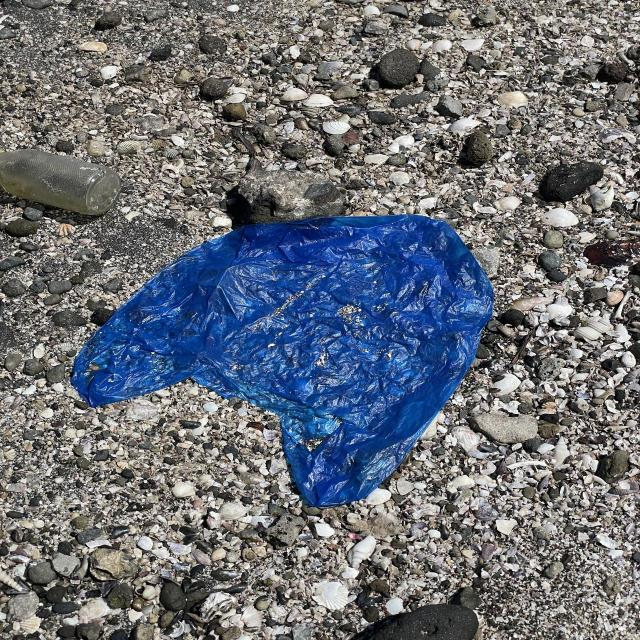glass_waste: (1, 149, 121, 216)
plastic_waste: (73, 215, 503, 508)
